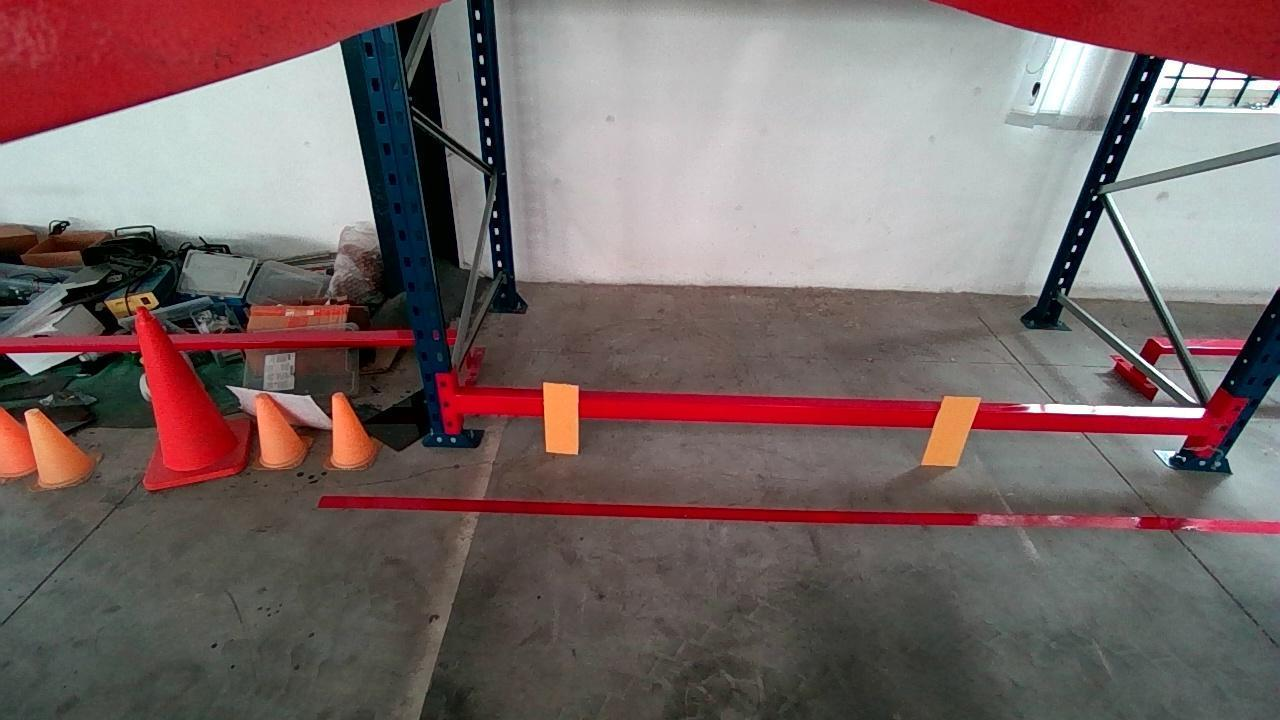h_rack: (454, 396, 1206, 436)
orange_strip: (924, 398, 984, 461), (543, 382, 578, 454)
red_line: (321, 498, 1280, 535)
